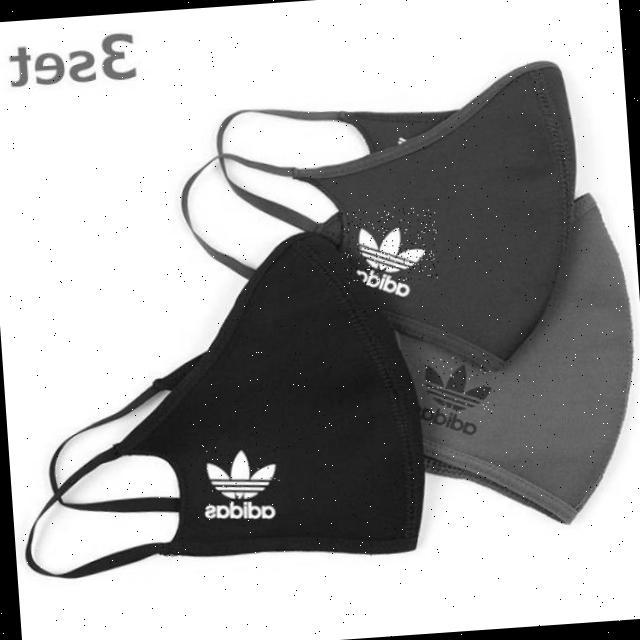Adidas: (340, 204, 440, 284), (200, 439, 283, 505), (417, 351, 498, 417)
